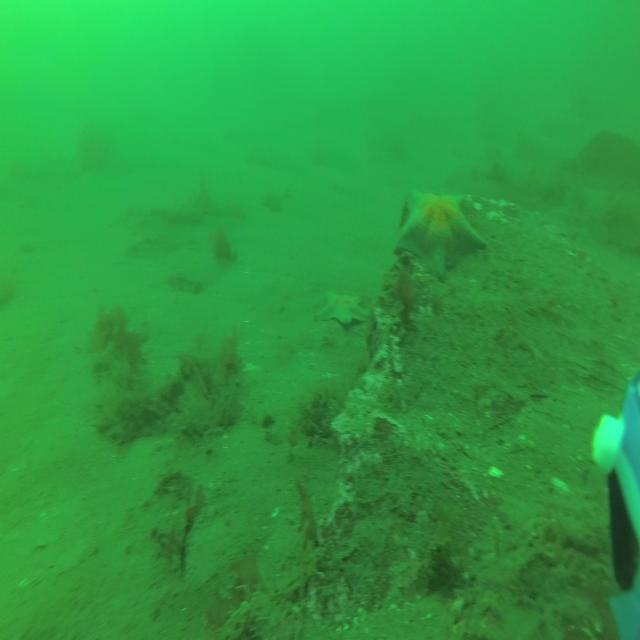starfish: (394, 183, 489, 284), (320, 289, 373, 328)
